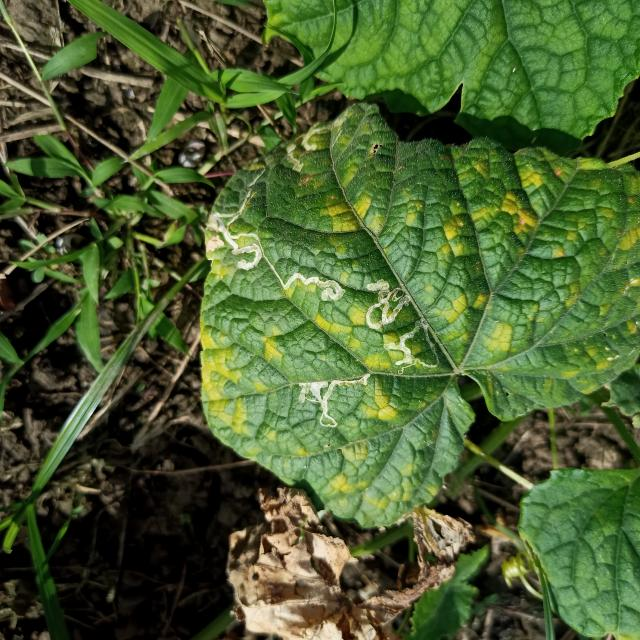disease_cucumber: (195, 124, 638, 507)
